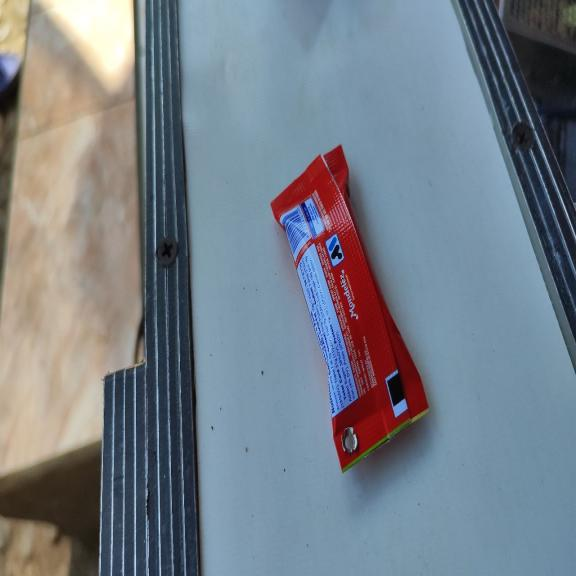Plastik: (270, 142, 432, 476)
